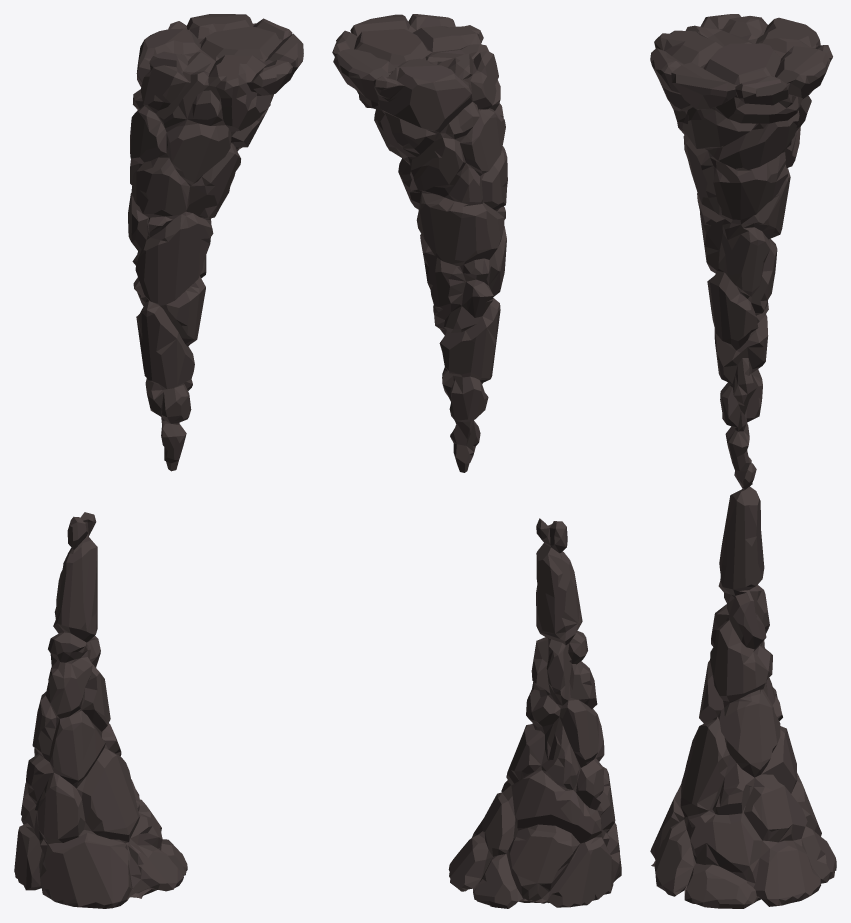
Rendered from StoneBig07.fbx.
3 renders of one model, left to right at view 1: azimuth 30°, elevation 25°; view 2: azimuth 150°, elevation 25°; view 3: azimuth 270°, elevation 25°, orthographic. The views are drawn at different scales.
Parts seen in each view (by area): view 1: Cylinder.005; view 2: Cylinder.005; view 3: Cylinder.005.
Part boxes in pixels (x1,y1,x2,y2): Cylinder.005: (14, 14, 303, 908); Cylinder.005: (332, 14, 621, 908); Cylinder.005: (650, 14, 836, 908).
Size of the model in its own units: 225 by 644 by 122.
